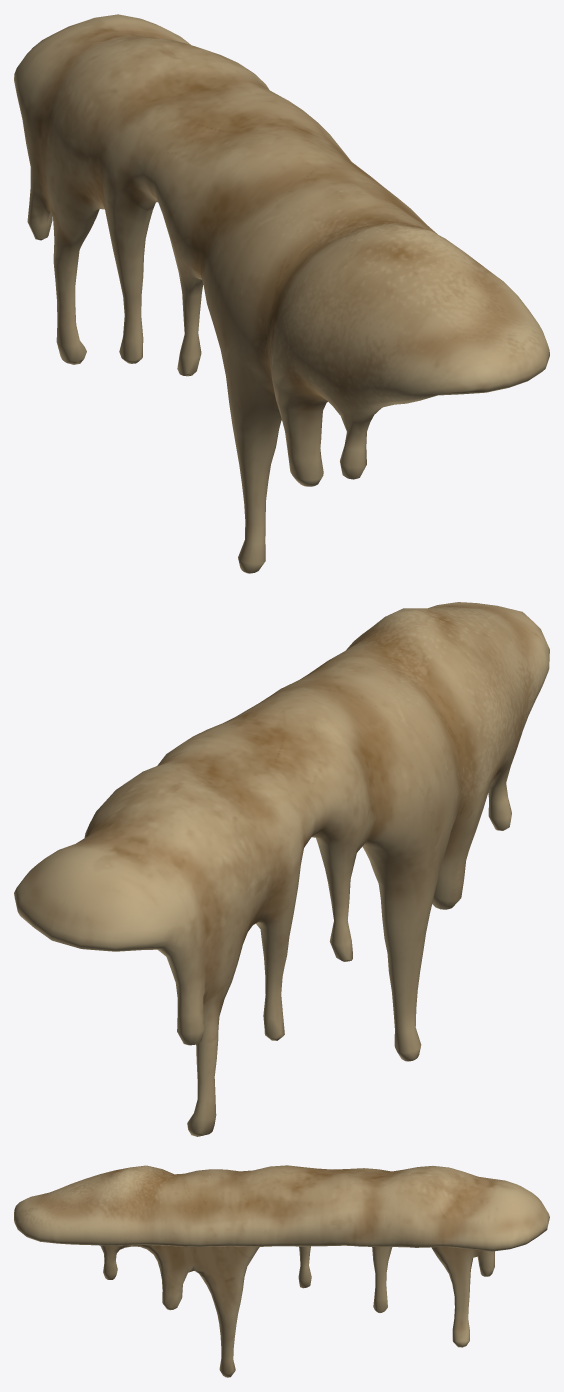
The model's file is SM_waxA_a1.fbx.
3 renders of one model, top to bottom at view 1: azimuth 30°, elevation 25°; view 2: azimuth 150°, elevation 25°; view 3: azimuth 270°, elevation 25°, orthographic. The views are drawn at different scales.
Visible parts, largest first — view 1: SM_waxA_a1_LOD0; view 2: SM_waxA_a1_LOD0; view 3: SM_waxA_a1_LOD0.
Boxes of the visible parts, x1=… form: SM_waxA_a1_LOD0: x1=14, y1=14, x2=549, y2=573; SM_waxA_a1_LOD0: x1=14, y1=602, x2=549, y2=1136; SM_waxA_a1_LOD0: x1=14, y1=1165, x2=549, y2=1377.
Bounding box in the file's own units: 20.78 × 79.47 × 37.26.
1 material, 1 textured.
